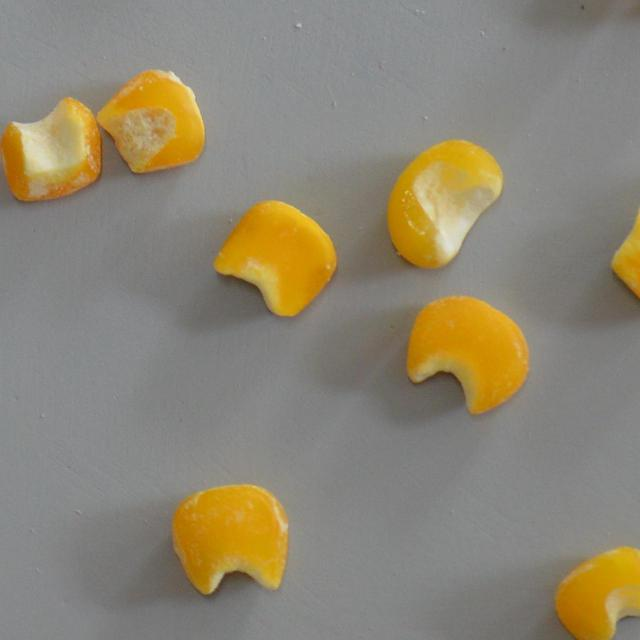no_canjicado: (386, 138, 502, 270), (406, 294, 530, 416), (212, 198, 338, 316), (554, 545, 640, 640), (610, 204, 640, 316)
pelicula: (171, 482, 290, 596), (96, 68, 203, 174), (0, 96, 102, 202)
